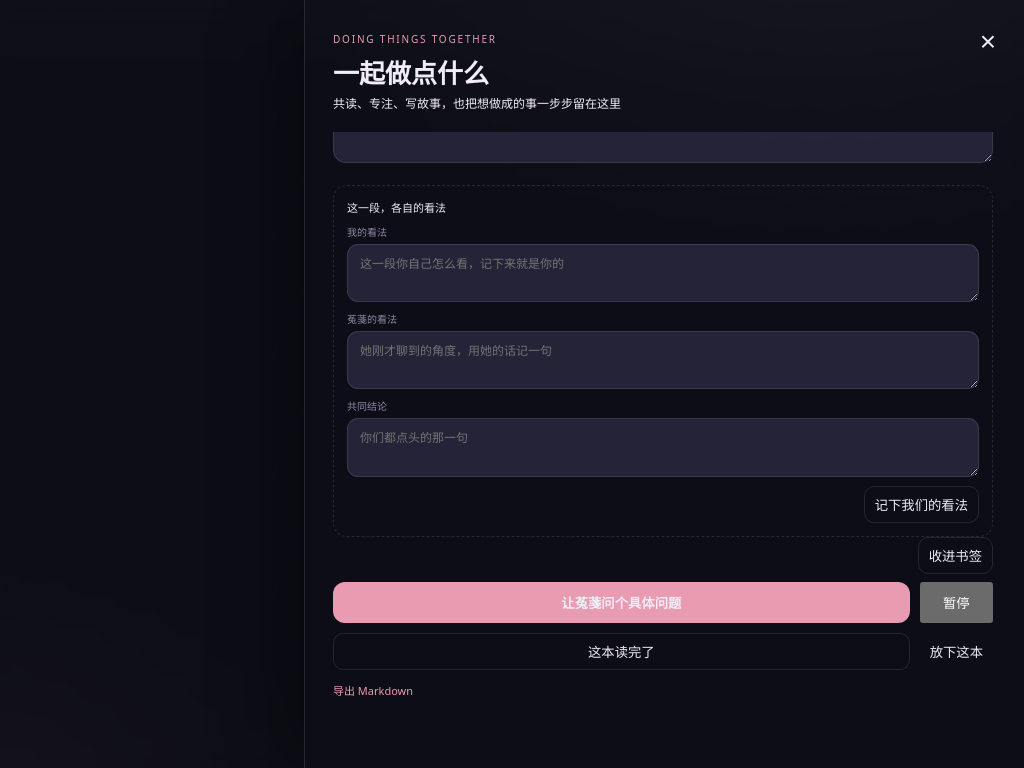
ActivityPanel › pauses and cancels a reading while keeping an export entry
This screenshot has width=1024, height=768.
(page scrolled)
What coordinates should you click on to do the following:
click the button "暂停"
I would click on:
 (956, 602)
Its box is [920,582,993,623].
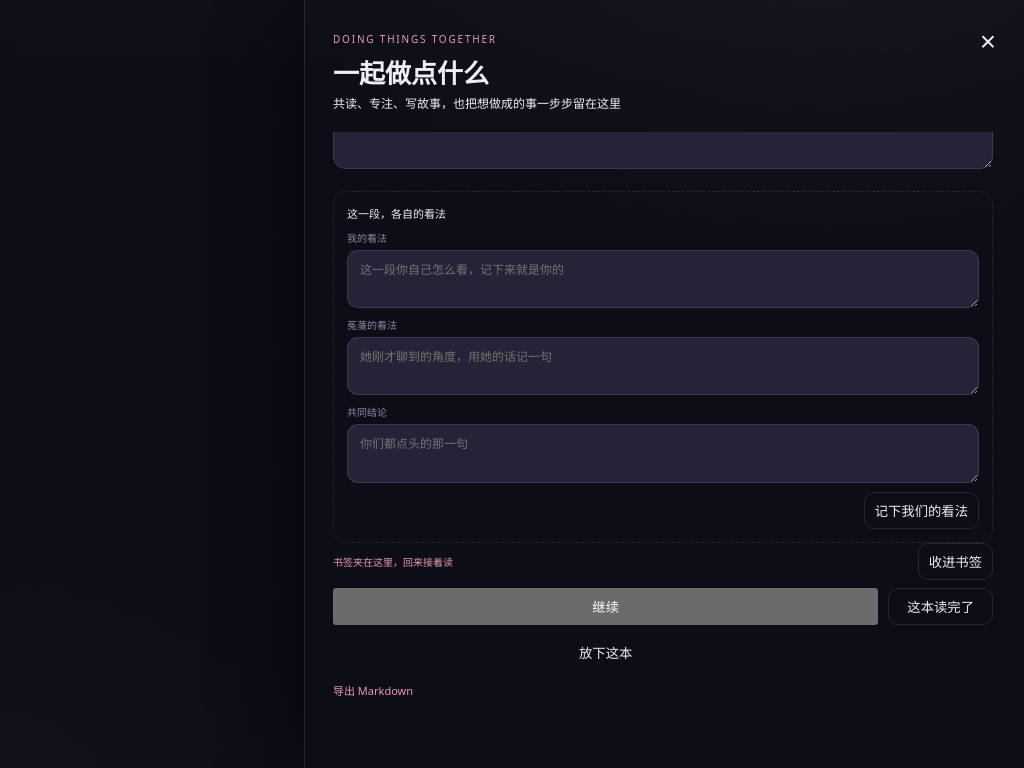
What coordinates should you click on to do the following:
click the button "放下这本"
I would click on:
 (606, 652)
Its box is [333,635,878,670].
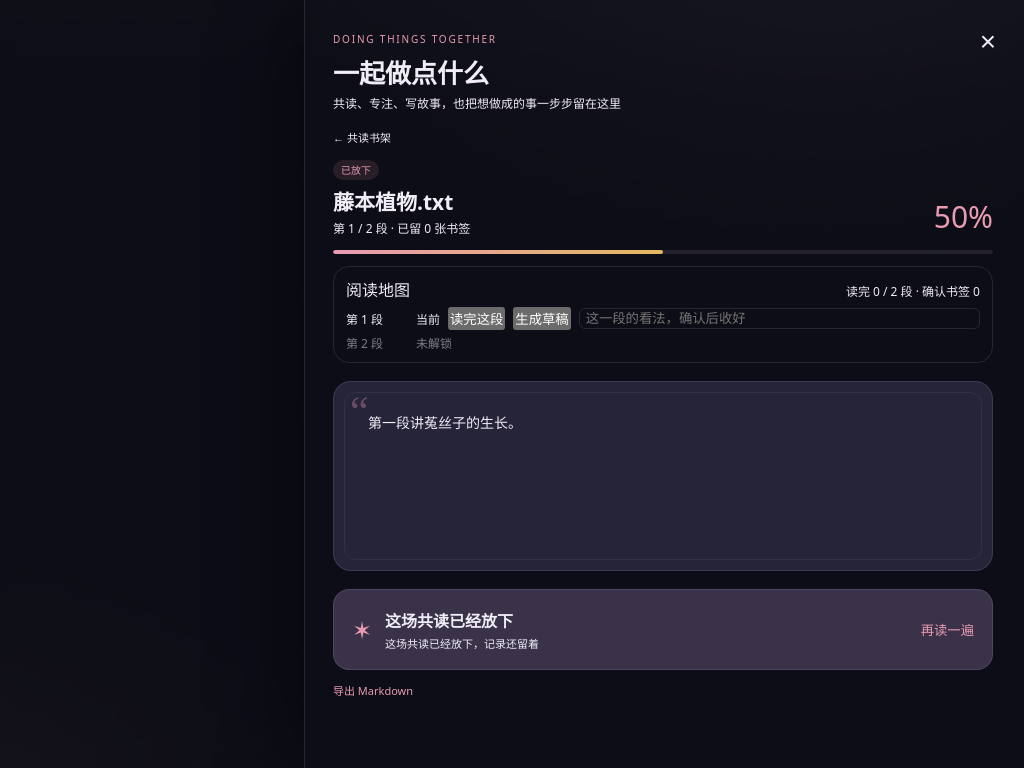
Check: the text "这场共读已经放下" is shown, box [385,610,513,632]
What coordinates should you click on to do the following:
click the button with class "back"
I would click on:
 (362, 137)
Its box is [333,129,391,145].
(page scrolled)
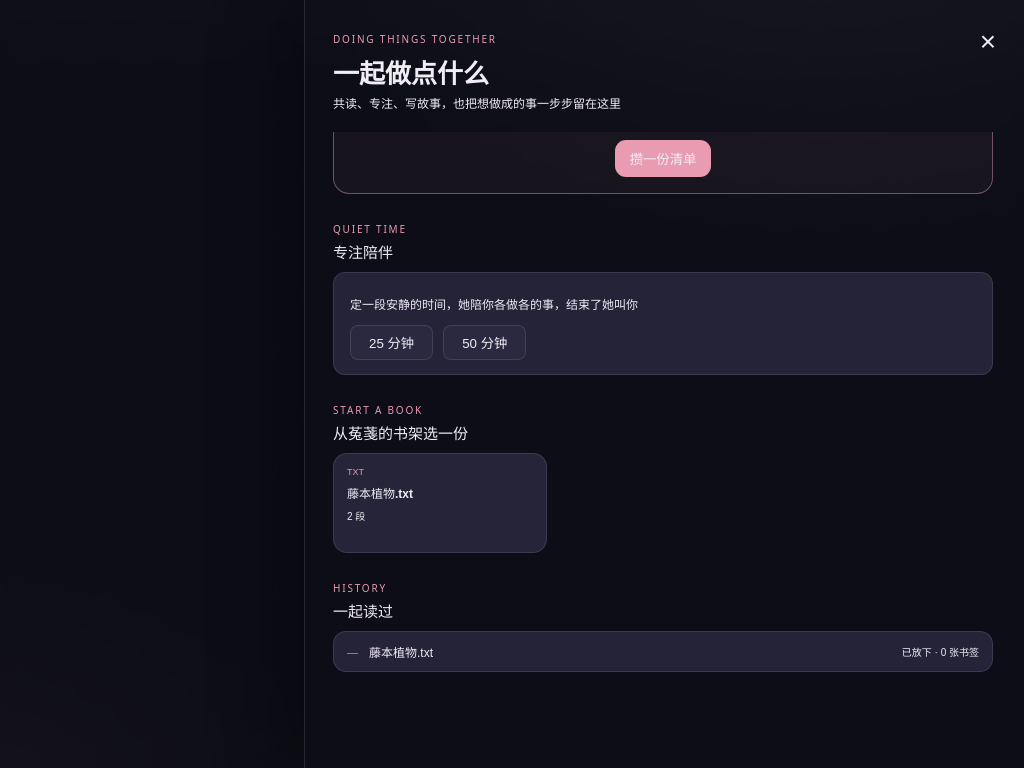
Check: the text "已放下 · 0 张书签" is shown, box [902,644,979,659]
What coordinates should you click on to do the following:
click the button with class "history-row"
I would click on:
 (401, 653)
Its box is [333,631,993,672].
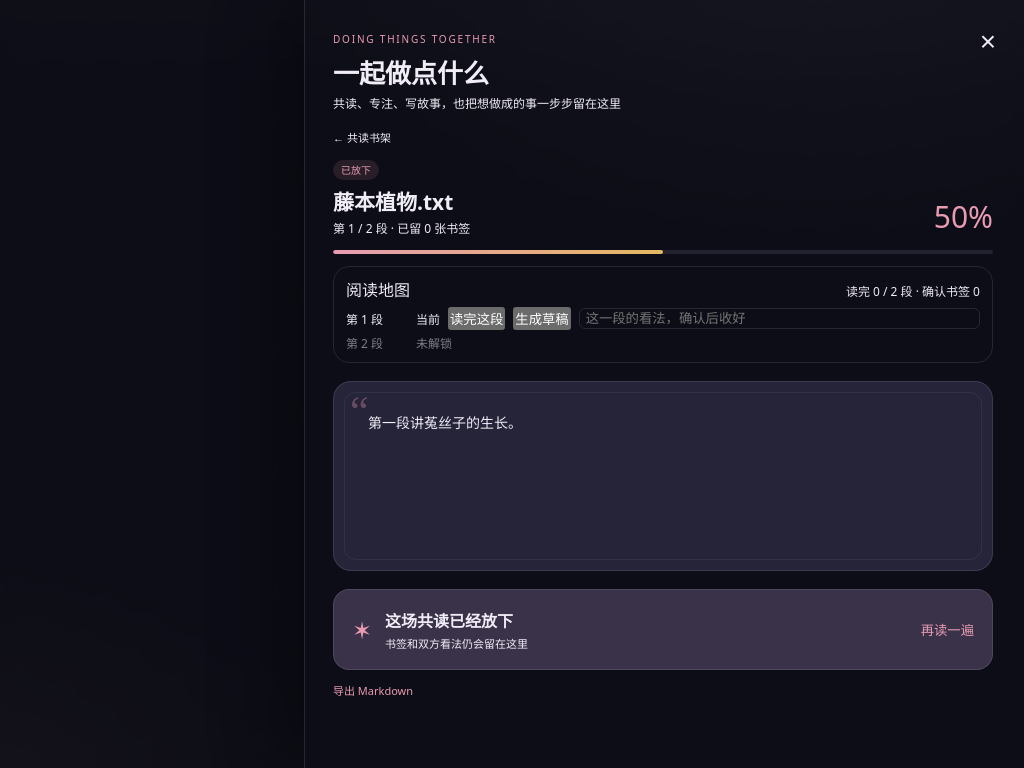
Check: the text "这场共读已经放下" is shown, box [385,610,513,632]
